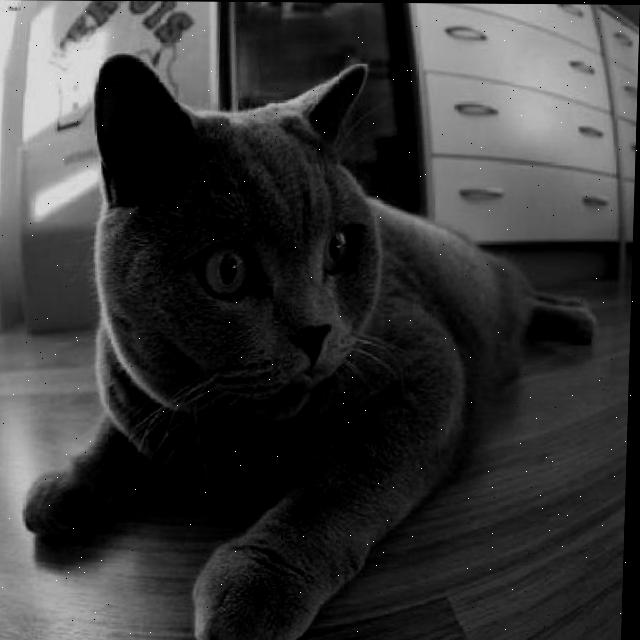Cat: (22, 53, 604, 640)
